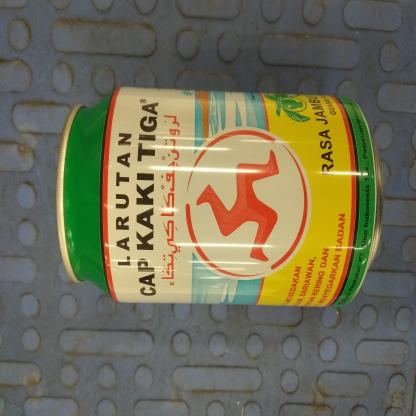bottle: (52, 74, 388, 318)
